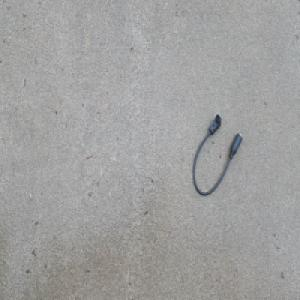Wire: (192, 112, 243, 196)
